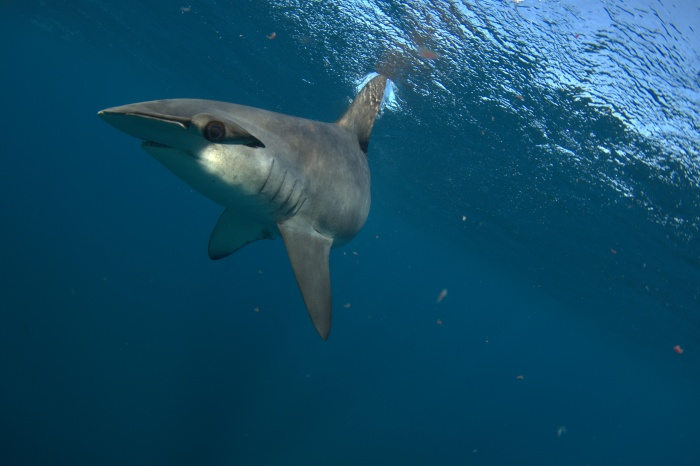Hammer: (85, 42, 426, 370)
